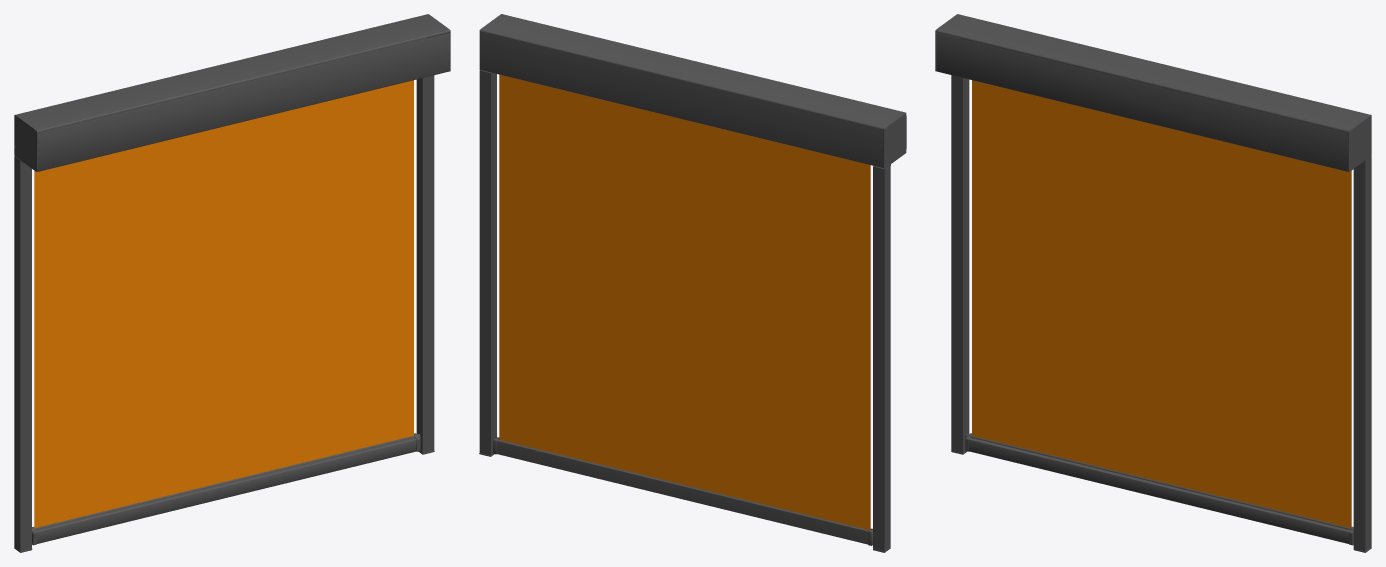
The model's file is VS_eckig.glb.
3 renders of one model, left to right at view 1: azimuth 30°, elevation 25°; view 2: azimuth 150°, elevation 25°; view 3: azimuth 330°, elevation 25°, orthographic. The views are drawn at different scales.
Parts seen in each view (by area): view 1: Plane, VS-Z_FME90ų_Contra.003, Plane.001, Cube.002, Cube.001, VS-Z_FME90ų_Contra.004, VS-Z_FME90ų_Contra.010, Cube.018; view 2: Plane, Plane.001, Cube.001, Cube.002, VS-Z_FME90ų_Contra.004, Cube.018; view 3: Plane, VS-Z_FME90ų_Contra.003, Plane.001, Cube.002, Cube.001, VS-Z_FME90ų_Contra.004, VS-Z_FME90ų_Contra.010, Cube.019.
Part boxes in pixels (bbox=[...]): Plane: bbox=[34, 80, 413, 527]; VS-Z_FME90ų_Contra.003: bbox=[22, 33, 449, 171]; Plane.001: bbox=[16, 14, 449, 133]; Cube.002: bbox=[416, 75, 434, 452]; Cube.001: bbox=[14, 156, 31, 551]; VS-Z_FME90ų_Contra.004: bbox=[32, 435, 416, 543]; VS-Z_FME90ų_Contra.010: bbox=[37, 30, 449, 132]; Cube.018: bbox=[14, 114, 37, 171]; Plane: bbox=[499, 74, 870, 529]; Plane.001: bbox=[480, 14, 904, 168]; Cube.001: bbox=[873, 164, 890, 551]; Cube.002: bbox=[479, 70, 496, 455]; VS-Z_FME90ų_Contra.004: bbox=[496, 439, 869, 544]; Cube.018: bbox=[883, 112, 906, 168]; Plane: bbox=[972, 80, 1351, 527]; VS-Z_FME90ų_Contra.003: bbox=[936, 33, 1363, 171]; Plane.001: bbox=[936, 14, 1369, 133]; Cube.002: bbox=[1353, 156, 1371, 551]; Cube.001: bbox=[951, 75, 969, 452]; VS-Z_FME90ų_Contra.004: bbox=[969, 435, 1353, 543]; VS-Z_FME90ų_Contra.010: bbox=[936, 30, 1348, 132]; Cube.019: bbox=[1348, 114, 1371, 171].
Size of the model in its own units: 1.99 by 2 by 0.1898.
Materials: 3 (1 with a texture image).
